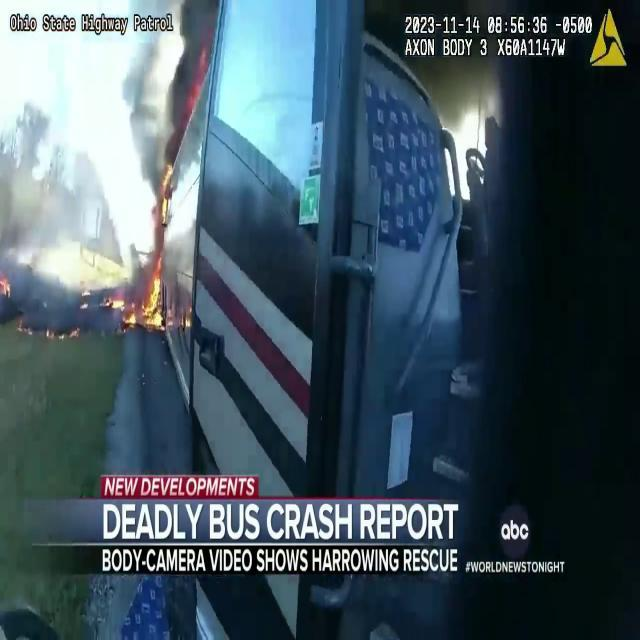Fire: (106, 268, 170, 325)
Smoke: (1, 0, 176, 291)
